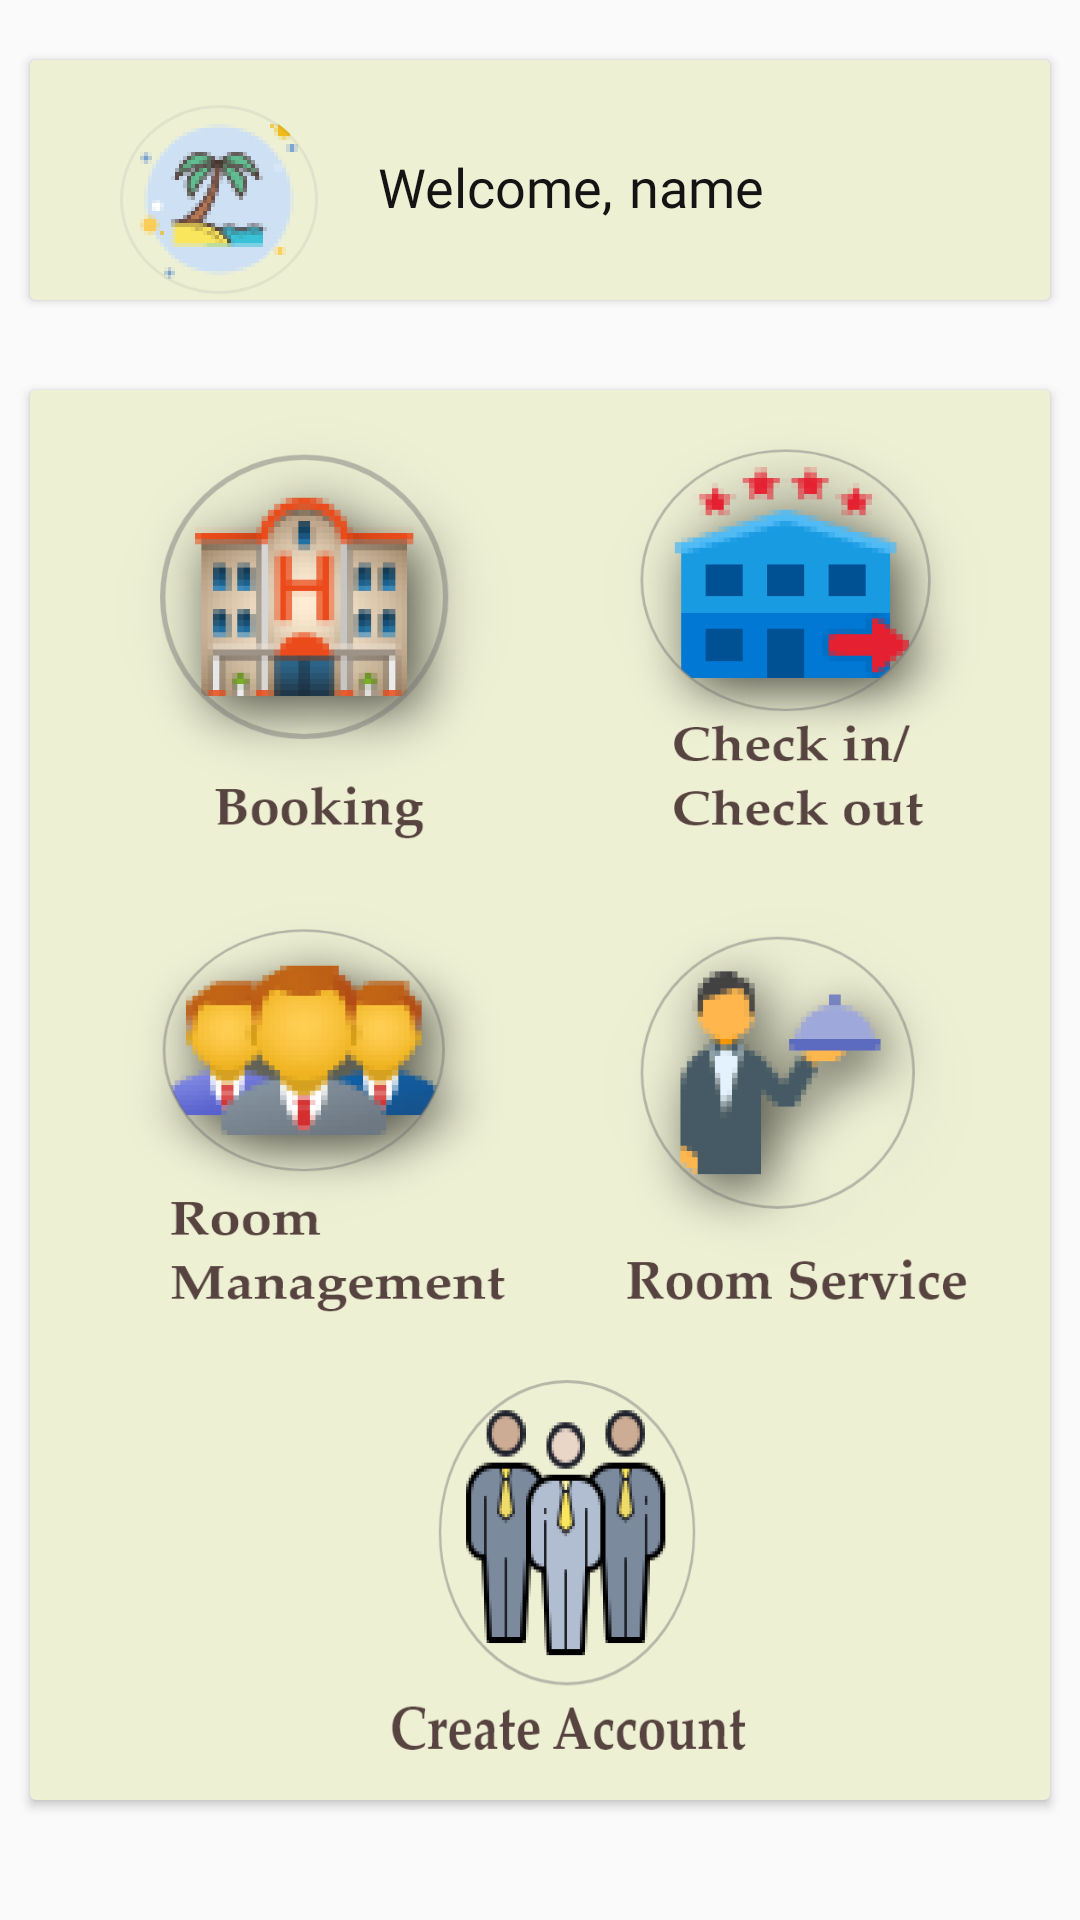

Locate icon controls on the screen. Image size 1080w x 1920h, boxes as (left=x1, top=y1, right=x2, bottom=y2).
beach: (left=140, top=124, right=298, bottom=279)
